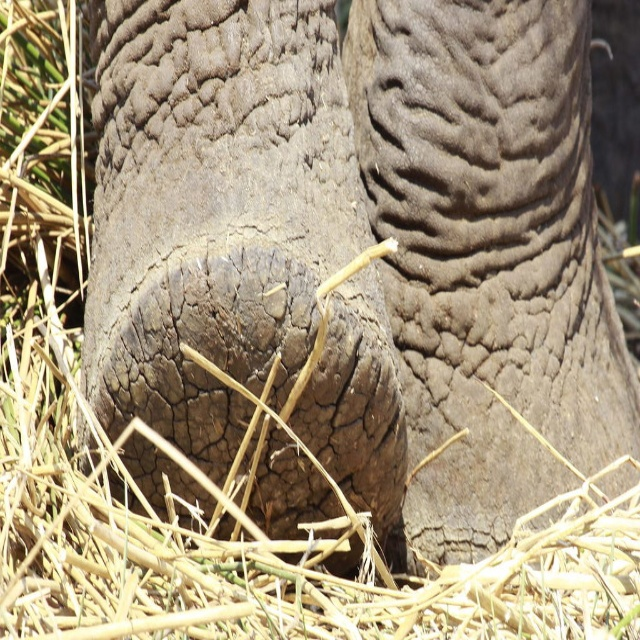Elephant: (65, 4, 624, 573)
